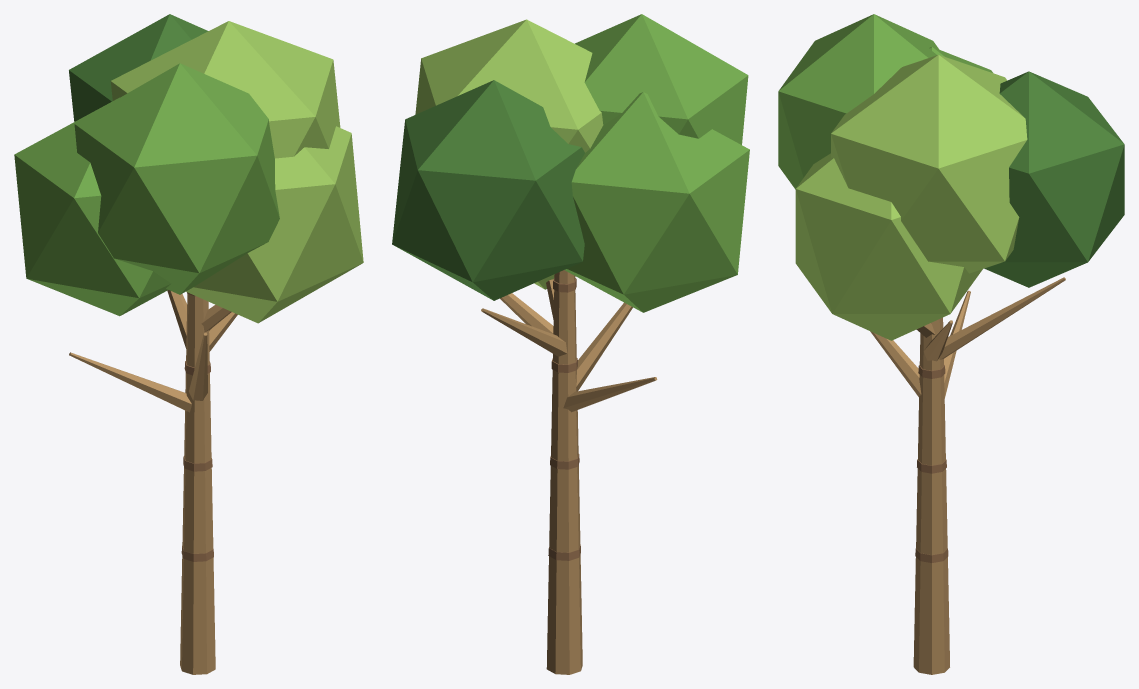
Rendered from SM_Tree_Birch.fbx.
3 views of the same model, side by side, from view 1: azimuth 30°, elevation 25°; view 2: azimuth 150°, elevation 25°; view 3: azimuth 270°, elevation 25° (orthographic). The views are drawn at different scales.
Parts seen in each view (by area): view 1: SM_Tree_Birch; view 2: SM_Tree_Birch; view 3: SM_Tree_Birch.
Part boxes in pixels (x1,y1,x2,y2): SM_Tree_Birch: [14, 14, 363, 674]; SM_Tree_Birch: [392, 14, 749, 674]; SM_Tree_Birch: [778, 14, 1124, 674].
Size of the model in its own units: 4.54 by 8.91 by 4.43.
